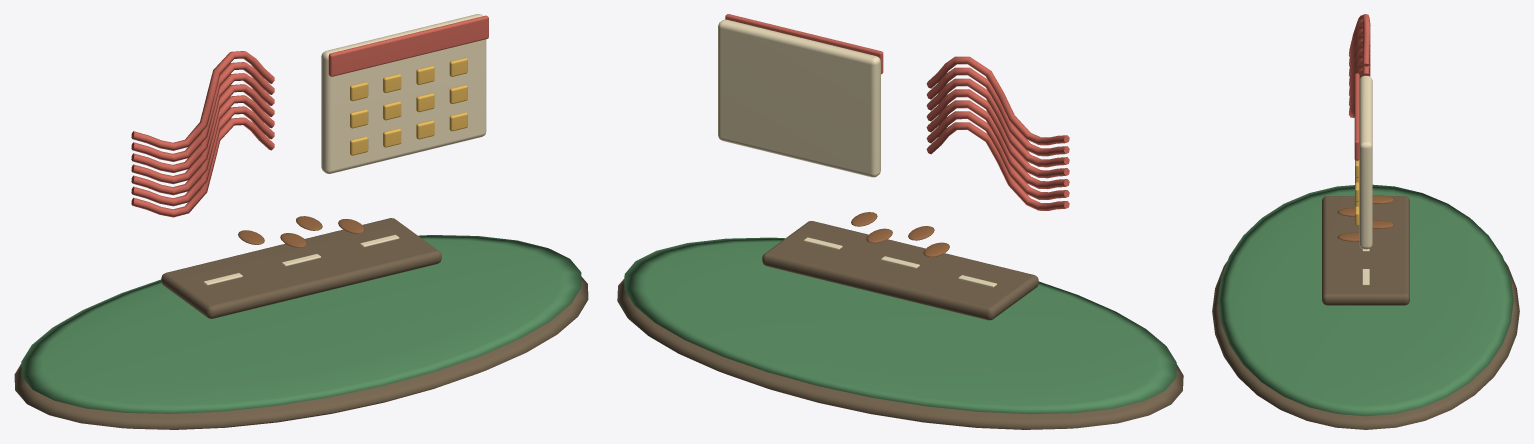
File: complete-second-thread-history-journey.glb
3 renders of one model, left to right at view 1: azimuth 30°, elevation 25°; view 2: azimuth 150°, elevation 25°; view 3: azimuth 270°, elevation 25°, orthographic. The views are drawn at different scales.
Parts seen in each view (by area): view 1: complete-second-thread-history-journey_surface_01, complete-second-thread-history-journey_surface_00, complete-second-thread-history-journey_surface_03, complete-second-thread-history-journey_surface_02, complete-second-thread-history-journey_surface_04, complete-second-thread-history-journey_surface_05; view 2: complete-second-thread-history-journey_surface_01, complete-second-thread-history-journey_surface_00, complete-second-thread-history-journey_surface_03, complete-second-thread-history-journey_surface_02, complete-second-thread-history-journey_surface_05; view 3: complete-second-thread-history-journey_surface_01, complete-second-thread-history-journey_surface_00, complete-second-thread-history-journey_surface_03, complete-second-thread-history-journey_surface_02, complete-second-thread-history-journey_surface_05, complete-second-thread-history-journey_surface_04.
Boxes of the visible parts, x1,y1,x2,y2 form: complete-second-thread-history-journey_surface_01: (21,235,581,413); complete-second-thread-history-journey_surface_00: (14,218,588,429); complete-second-thread-history-journey_surface_03: (203,14,486,285); complete-second-thread-history-journey_surface_02: (131,15,488,217); complete-second-thread-history-journey_surface_04: (350,57,467,155); complete-second-thread-history-journey_surface_05: (238,216,364,247); complete-second-thread-history-journey_surface_01: (624,237,1176,414); complete-second-thread-history-journey_surface_00: (617,221,1183,429); complete-second-thread-history-journey_surface_03: (718,19,997,287); complete-second-thread-history-journey_surface_02: (725,14,1069,210); complete-second-thread-history-journey_surface_05: (851,212,949,256); complete-second-thread-history-journey_surface_01: (1218,184,1513,416); complete-second-thread-history-journey_surface_00: (1212,196,1519,429); complete-second-thread-history-journey_surface_03: (1359,75,1372,285); complete-second-thread-history-journey_surface_02: (1349,14,1370,160); complete-second-thread-history-journey_surface_05: (1337,195,1394,241); complete-second-thread-history-journey_surface_04: (1355,160,1359,225).
Bounding box in the file's own units: 4.56 × 2.53 × 2.5.
